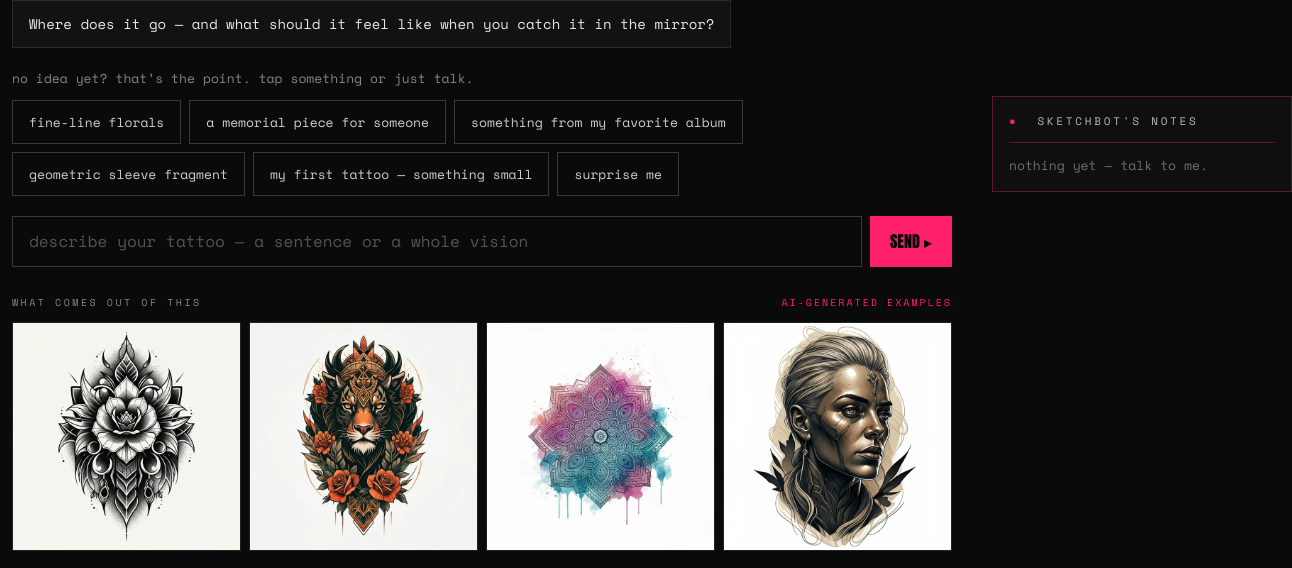
it: DesignConversation › scaffolds the empty state with starter chips + example strip, and a chip tap is just a normal first message
Expected: the text "Where does it go — and what should it feel like when you catch it in the mirror?" is shown, [12,0,731,48]
Expected: the text "no idea yet? that’s the point. tap something or just talk." is shown, [12,68,474,88]
Click the button "fine-line florals" at x=97, y=122, box [12,100,181,144]
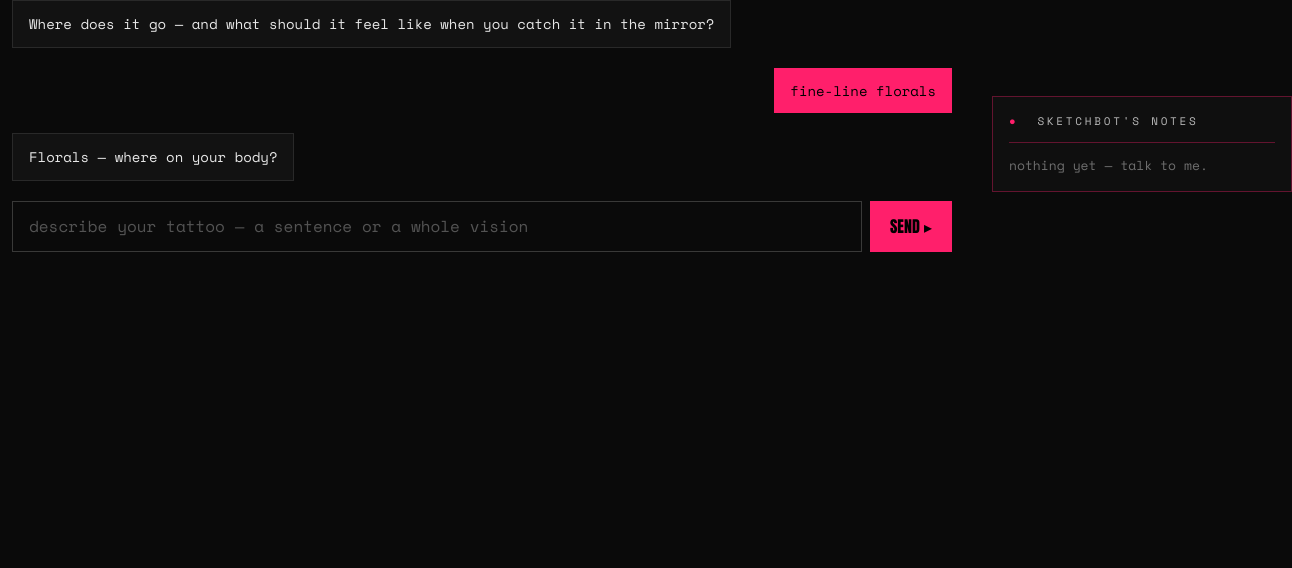
Result: the text "Florals — where on your body?" is shown at [12,133,294,181]
Result: the button "surprise me" is gone
Result: the text "no idea yet? that’s the point" is gone
